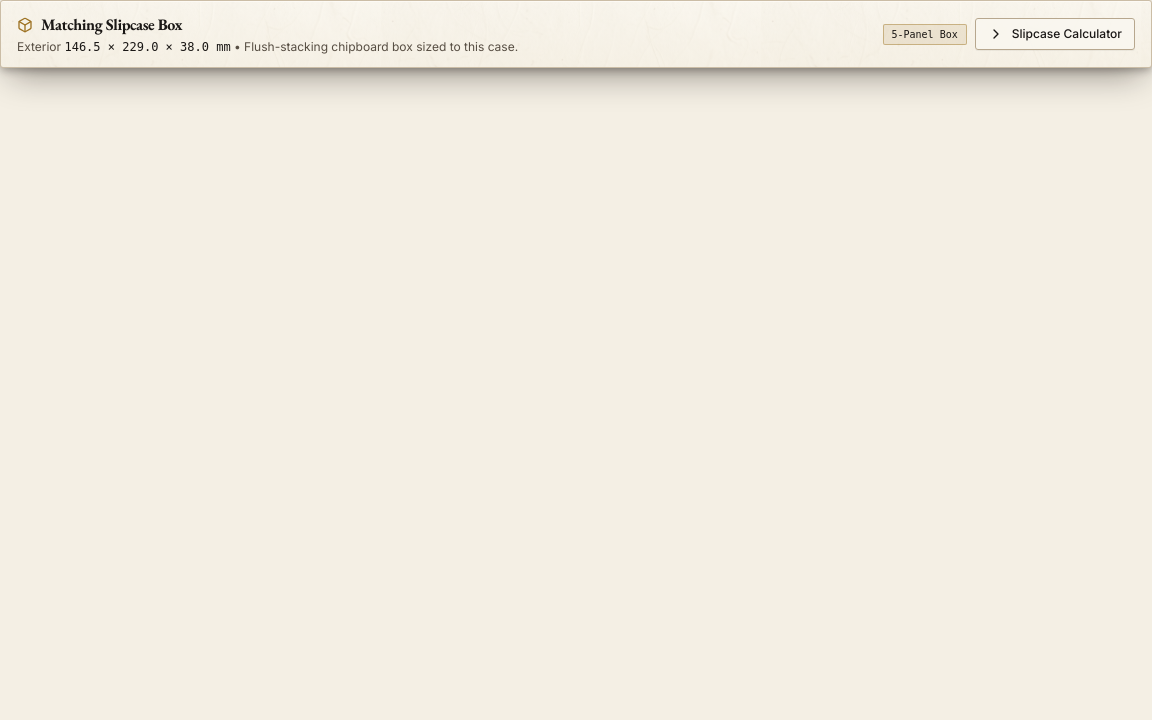
SlipcaseCard › updates cut-list dimensions, wrap strips, and SVG thumb-notch arc live when controls change
Click the button with test id "toggle-slipcase-calculator" at (1055, 34), box [975, 18, 1135, 50]
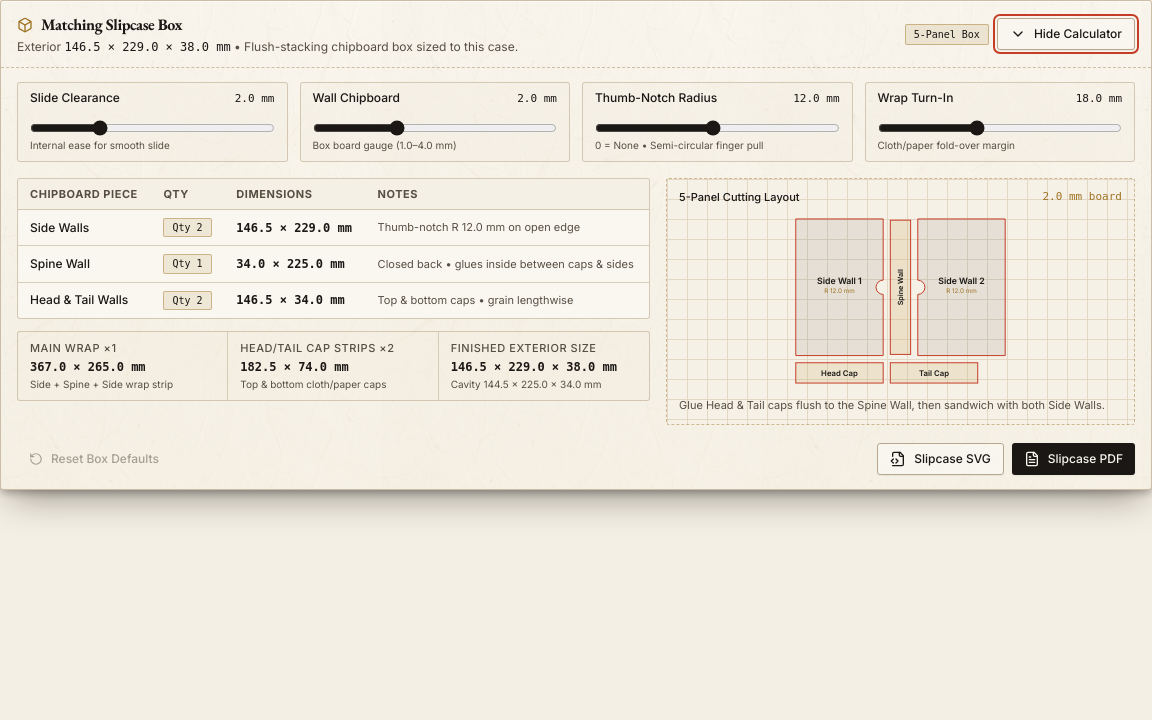
Set the slider with test id "slipcase-slide-clearance" to "4" at (183, 128), box [30, 124, 274, 132]
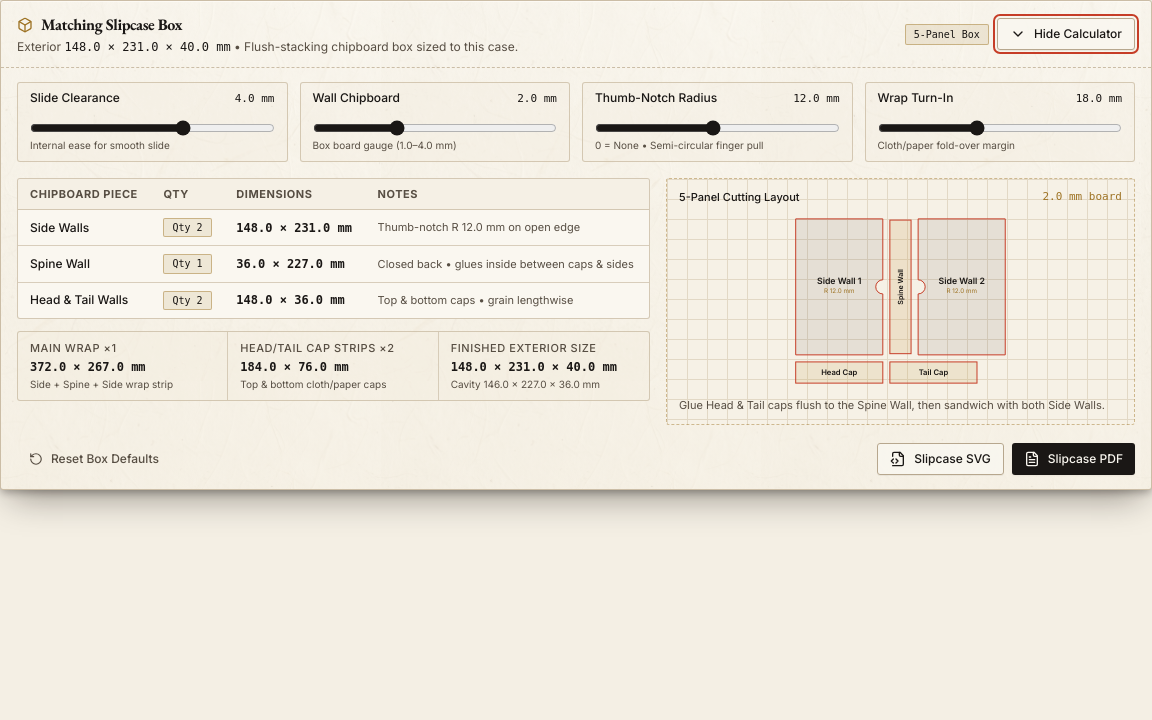
Expected: the text with test id "slipcase-slide-clearance-value" reads "4.0 mm", [235, 92, 275, 105]
Expected: the cell with test id "slipcase-dim-side-walls" reads "148.0 × 231.0 mm", [236, 221, 352, 235]
Expected: the cell with test id "slipcase-dim-spine-wall" reads "36.0 × 227.0 mm", [236, 257, 345, 271]
Set the slider with test id "slipcase-thumb-notch" to "0" at (603, 128), box [595, 124, 840, 132]
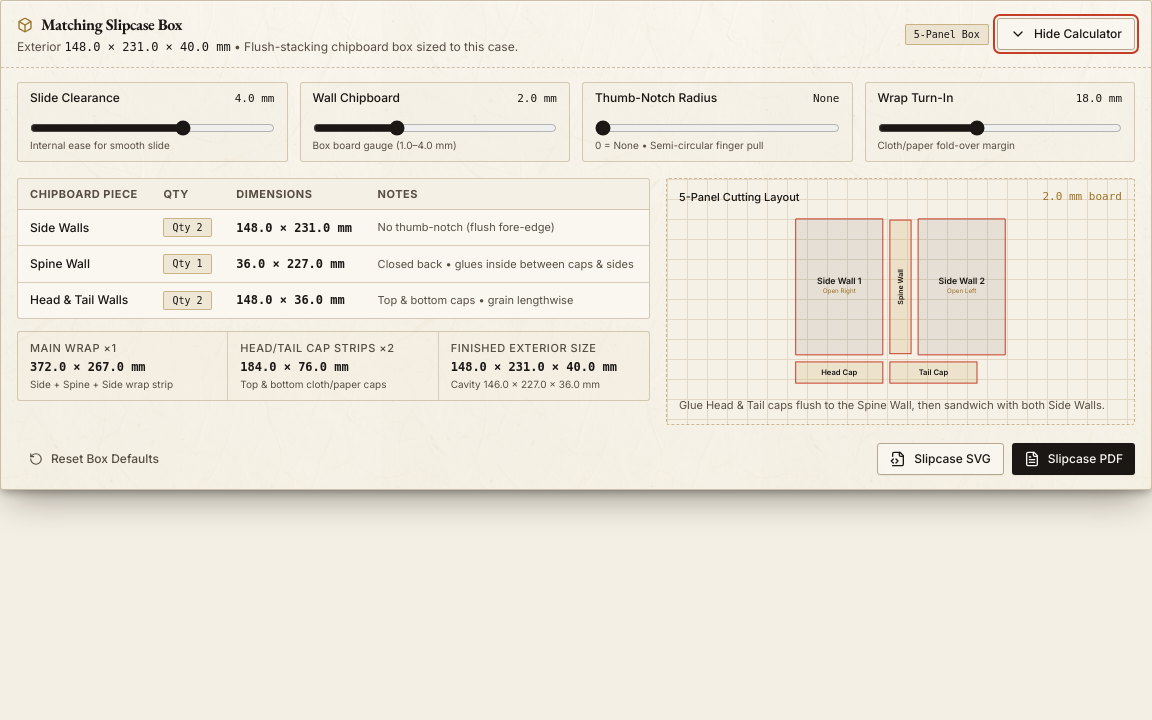
Expected: the text with test id "slipcase-thumb-notch-value" reads "None", [813, 92, 840, 105]
Expected: the cell with test id "slipcase-note-side-walls" shows "No thumb-notch", [378, 220, 555, 234]
# Increase wall chipboard to 3.0 mm & wrap turn-in to 24 mm
Set the slider with test id "slipcase-wall-thickness" to "3" at (473, 128), box [312, 124, 557, 132]
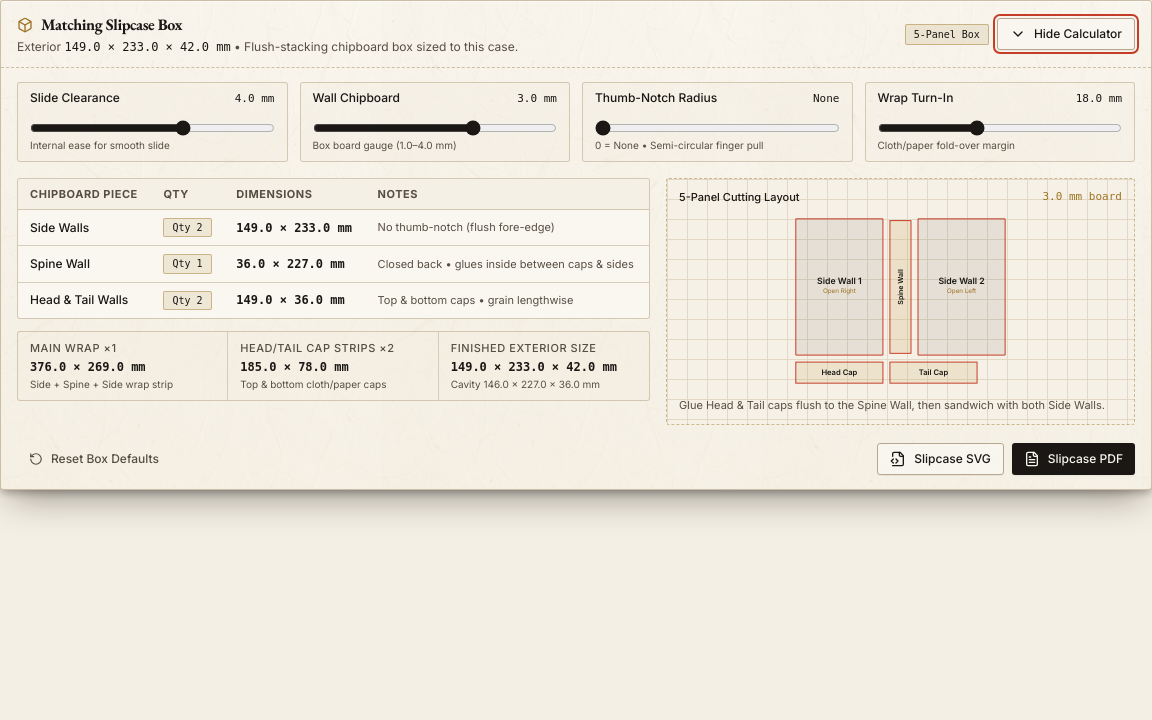
Set the slider with test id "slipcase-wrap-turn-in" to "24" at (1045, 128), box [878, 124, 1122, 132]
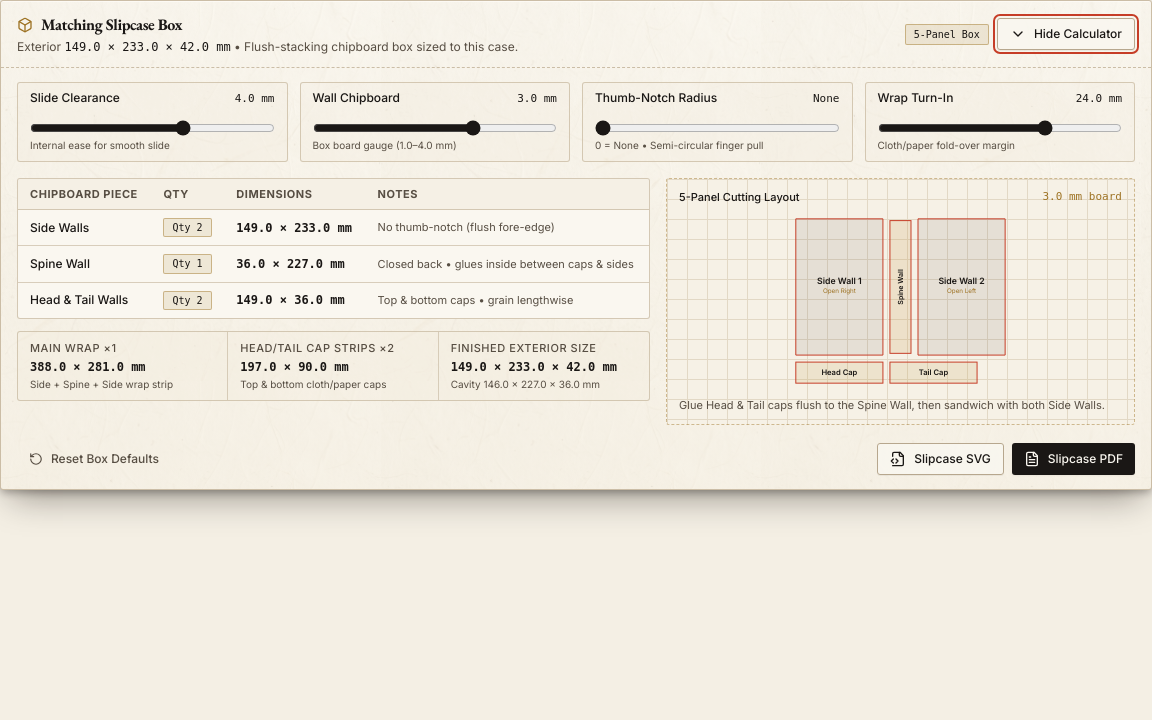
Expected: the text with test id "slipcase-wall-thickness-value" reads "3.0 mm", [517, 92, 557, 105]
Expected: the cell with test id "slipcase-dim-side-walls" reads "149.0 × 233.0 mm", [236, 221, 352, 235]
Expected: the text with test id "slipcase-wrap-turn-in-value" reads "24.0 mm", [1076, 92, 1122, 105]
# Reset restores defaults
Click the button with test id "slipcase-reset-options-btn" at (94, 458), box [17, 442, 171, 474]
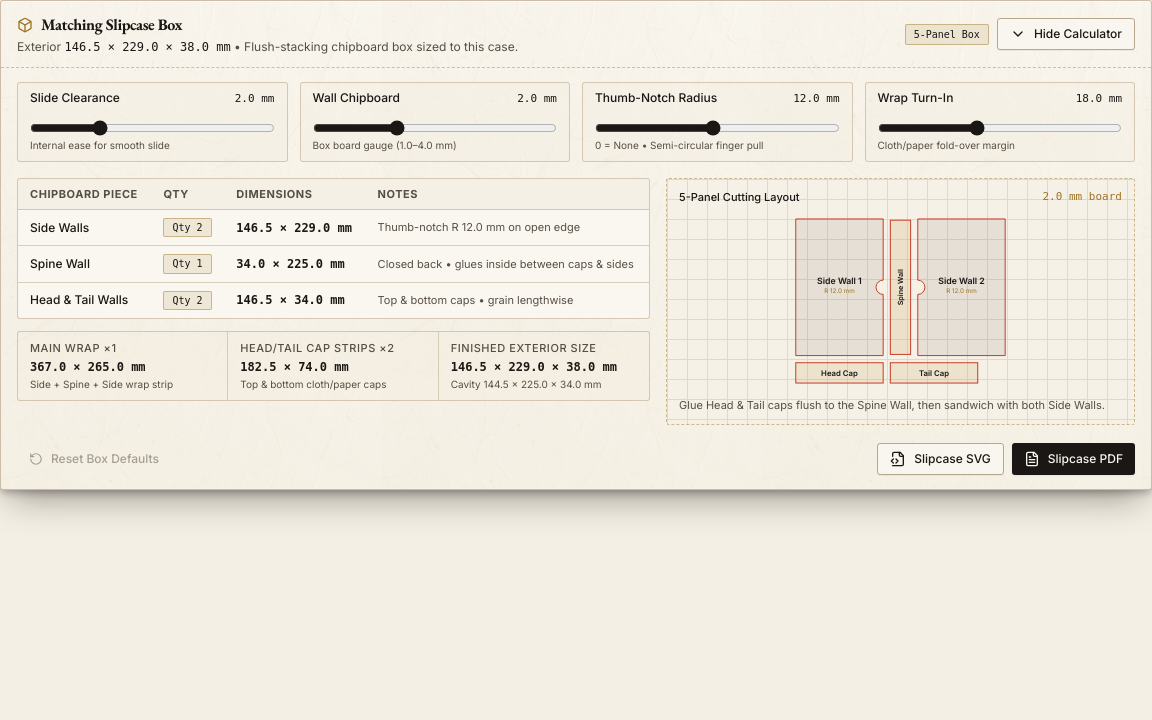
Expected: the cell with test id "slipcase-dim-side-walls" reads "146.5 × 229.0 mm", [236, 221, 352, 235]
Expected: the text with test id "slipcase-thumb-notch-value" reads "12.0 mm", [793, 92, 840, 105]
